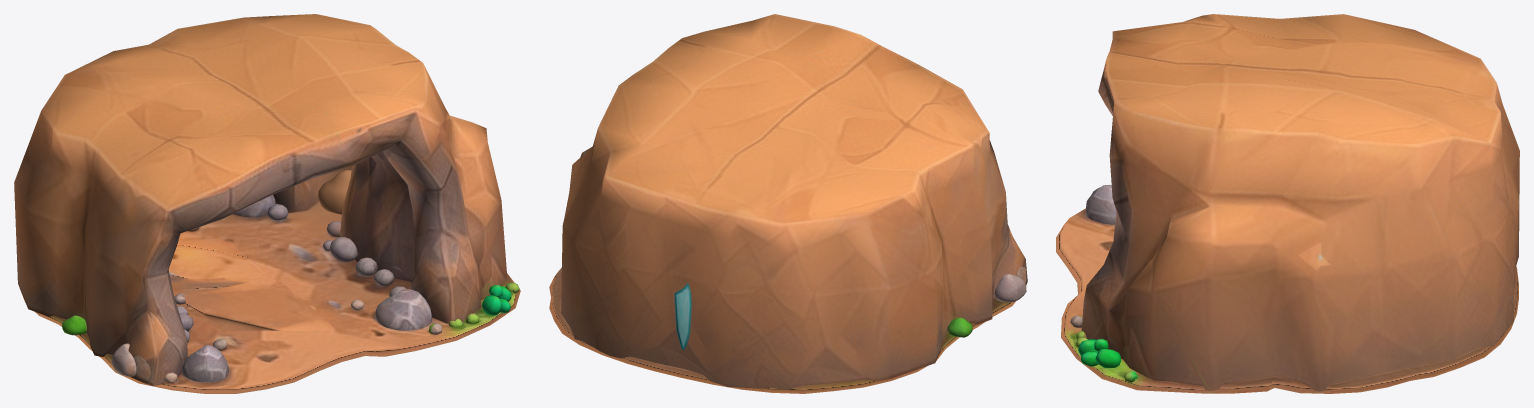
Rendered from r2c3_warm_cave_entrance.glb.
The picture shows the model from 3 angles, left to right: view 1: azimuth 30°, elevation 25°; view 2: azimuth 150°, elevation 25°; view 3: azimuth 270°, elevation 25°; orthographic projection. The views are drawn at different scales.
Size of the model in its own units: 1 by 0.5352 by 0.9473.
1 material, 1 textured.
